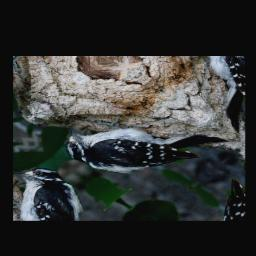Woodpecker: (47, 76, 230, 208)
